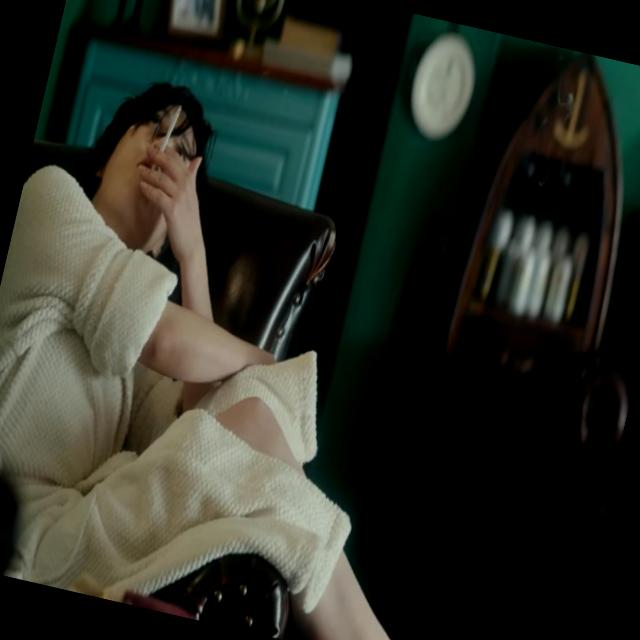smoke: (150, 100, 183, 172)
